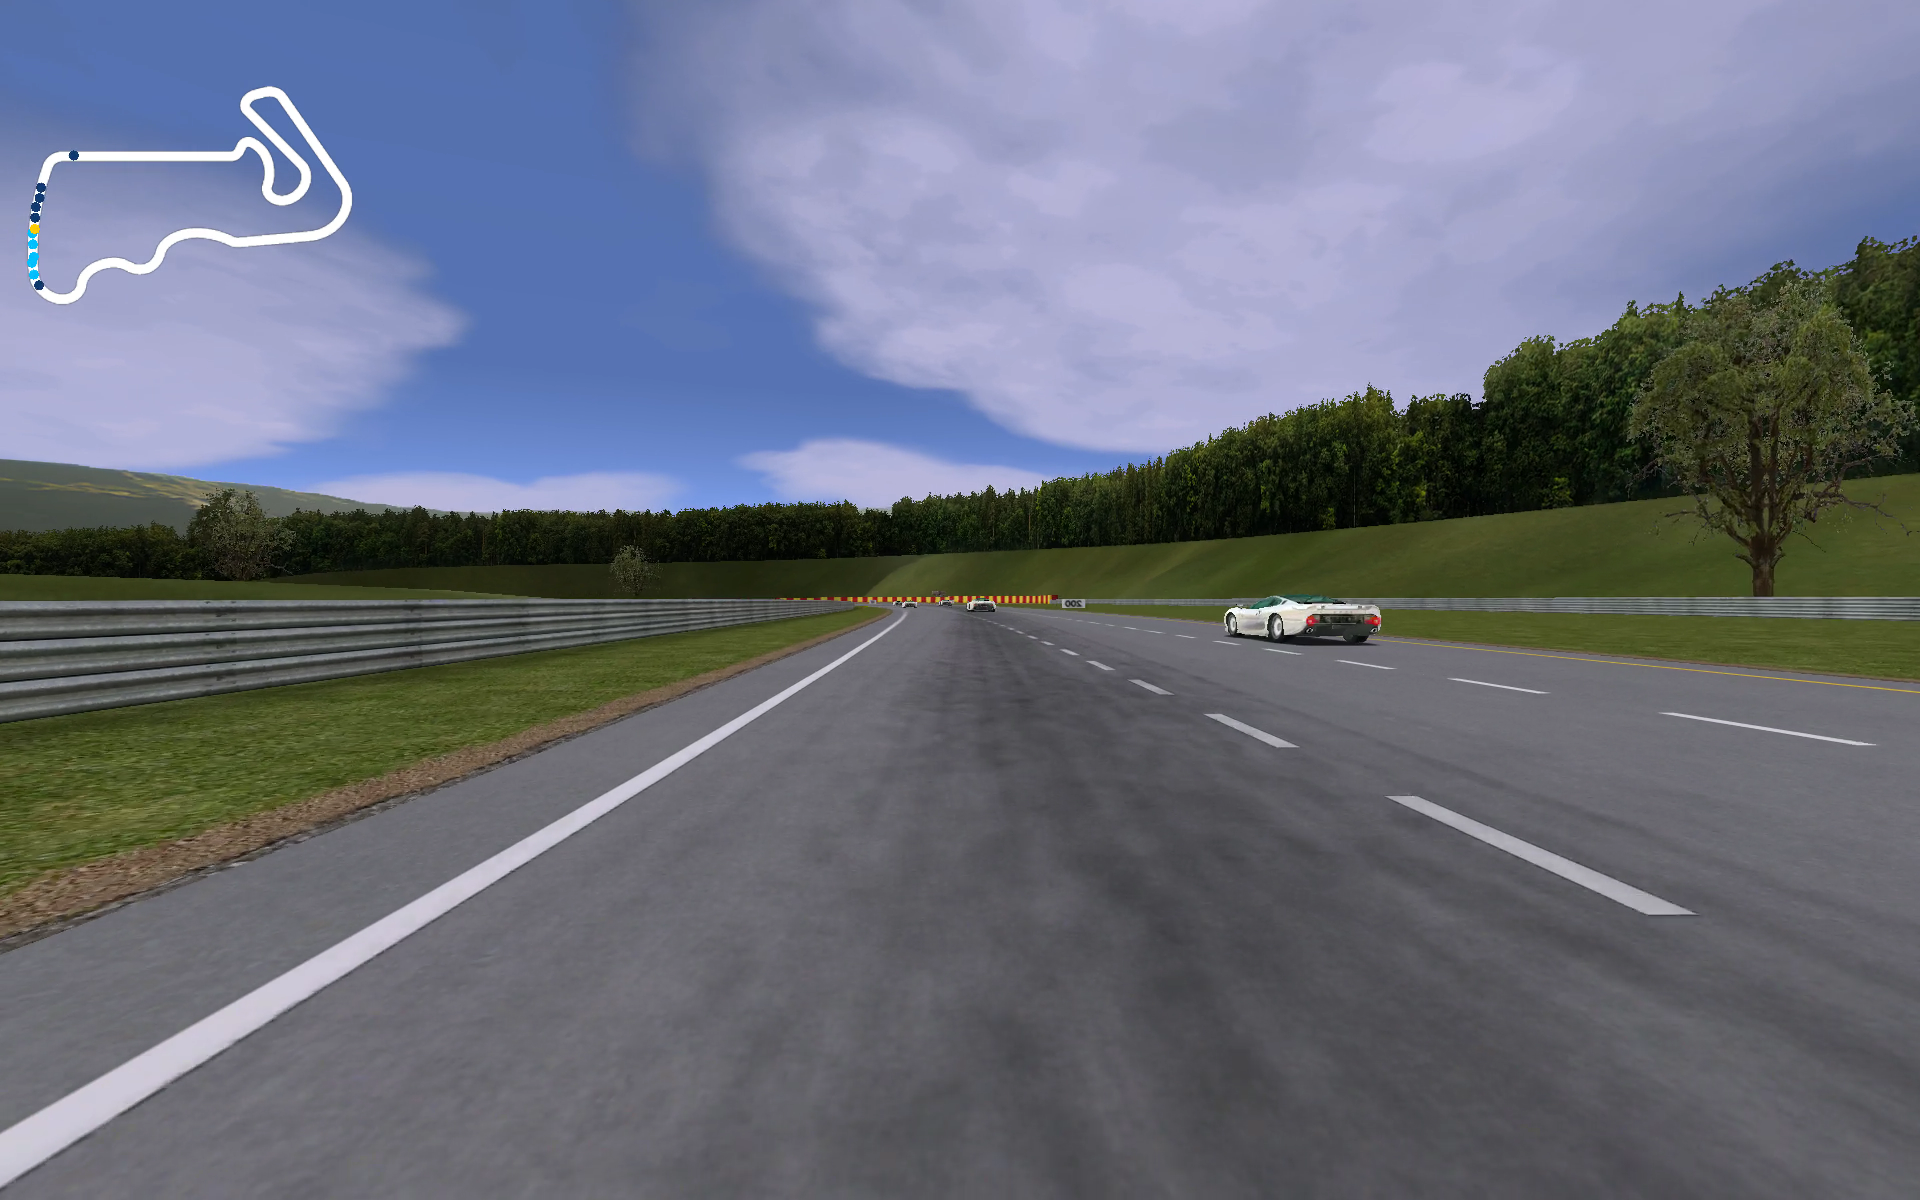car: (1221, 592, 1386, 643), (963, 596, 999, 614)
